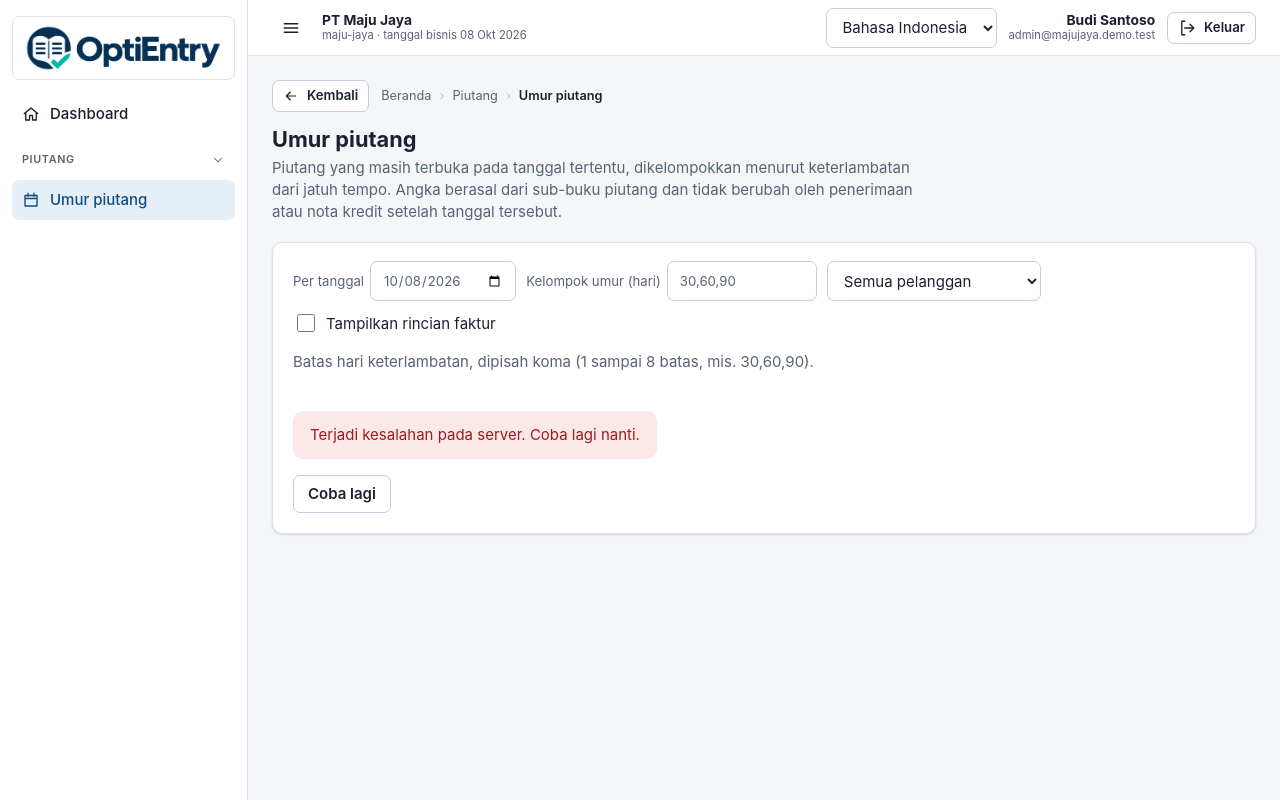
Test: receivables aging › shows an empty state, and an error with a retry
Check: the text "Terjadi kesalahan pada server. Coba lagi nanti." is shown, box x1=310 y1=424 x2=640 y2=446
Click the button "Coba lagi": [342, 494] box x1=293 y1=475 x2=391 y2=513
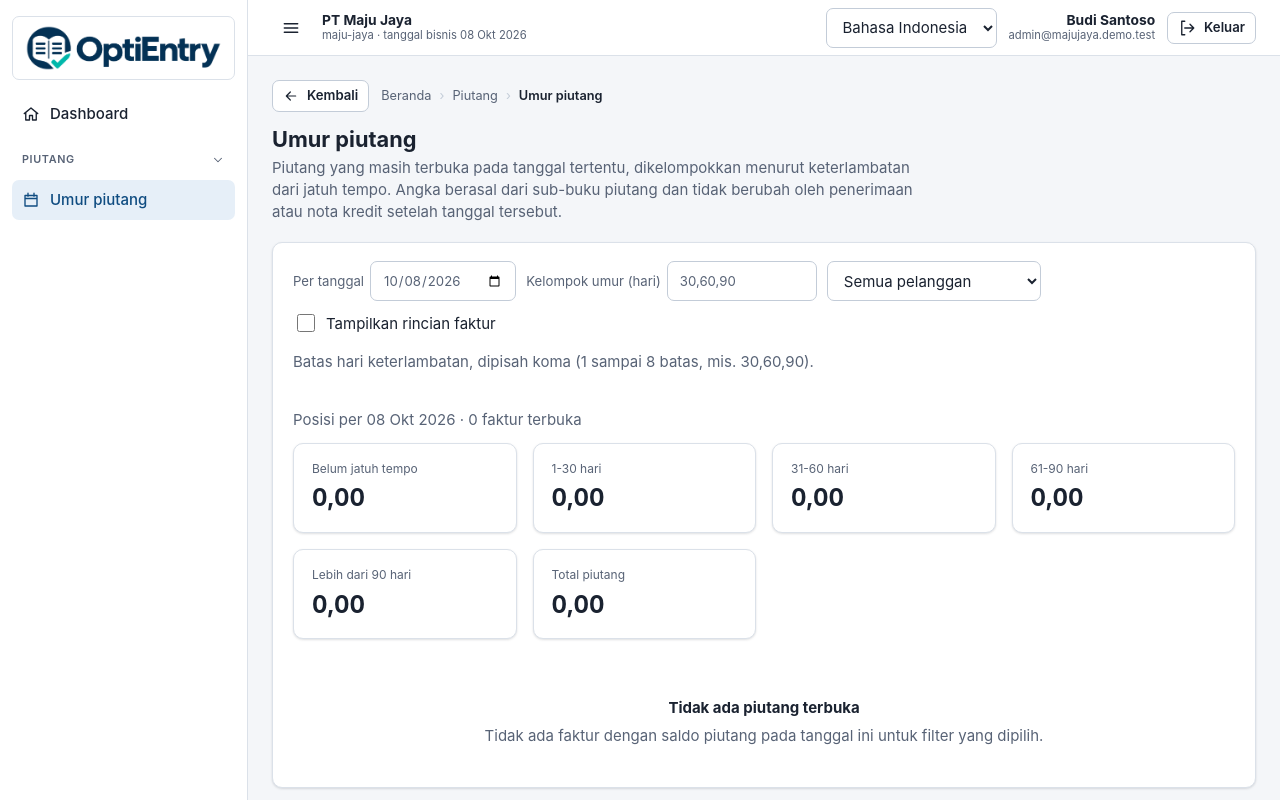
Check: the text "Tidak ada piutang terbuka" is shown, box x1=668 y1=697 x2=860 y2=719
